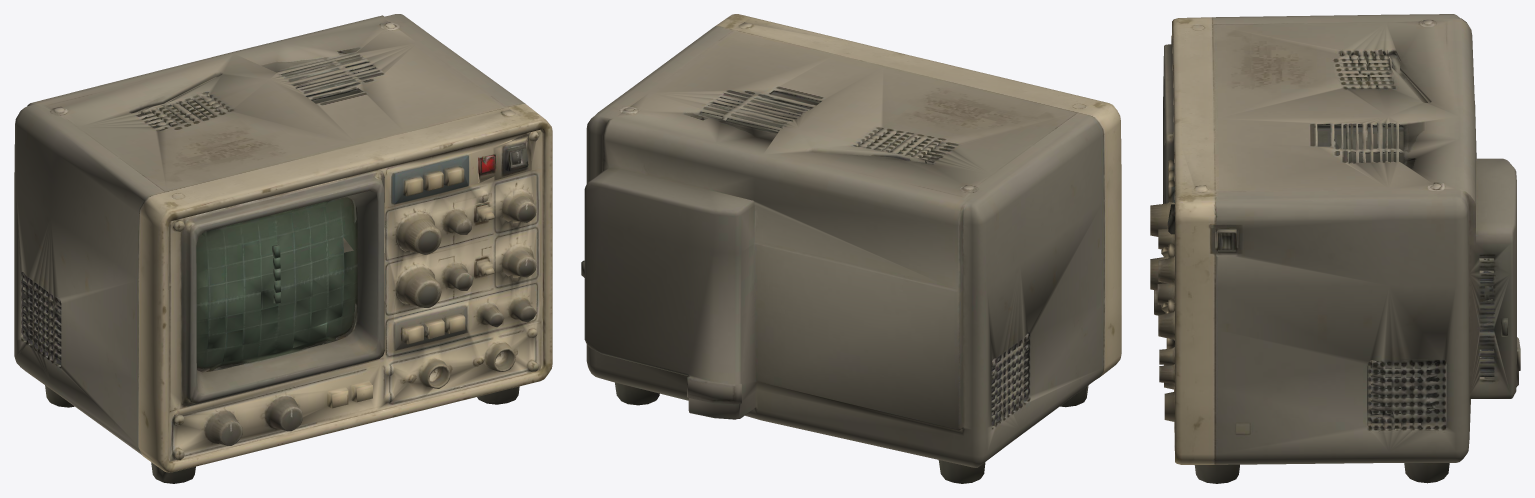
Rendered from SM_Oscilloscope.fbx.
3 views of the same model, side by side, from view 1: azimuth 30°, elevation 25°; view 2: azimuth 150°, elevation 25°; view 3: azimuth 270°, elevation 25° (orthographic).
Visible parts, largest first — view 1: SM_Oscilloscope; view 2: SM_Oscilloscope; view 3: SM_Oscilloscope.
Part boxes in pixels (left/top/right/bottom): SM_Oscilloscope: left=14, top=14, right=552, bottom=483; SM_Oscilloscope: left=581, top=14, right=1121, bottom=483; SM_Oscilloscope: left=1150, top=14, right=1520, bottom=483.
Size of the model in its own units: 0.5392 by 0.3704 by 0.4273.
Materials: 1 (1 with a texture image).
